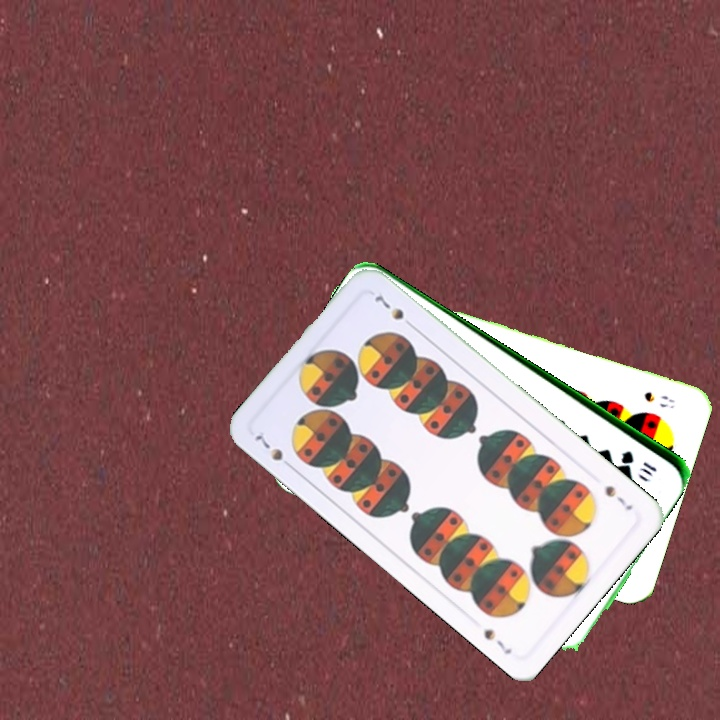G10: (617, 446, 659, 479)
S7: (248, 427, 297, 473), (601, 481, 635, 513)
S8: (640, 387, 678, 411)
